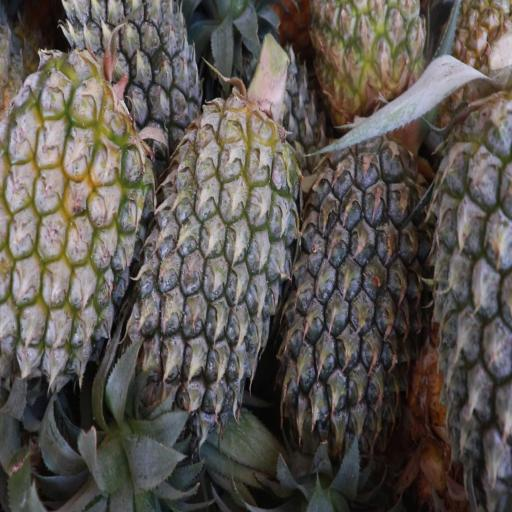------------------------------: (0, 61, 144, 384), (312, 0, 420, 128)
